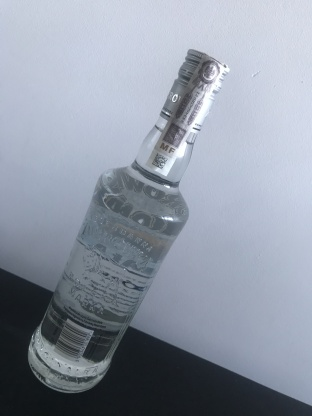nakretka: (158, 45, 231, 137)
